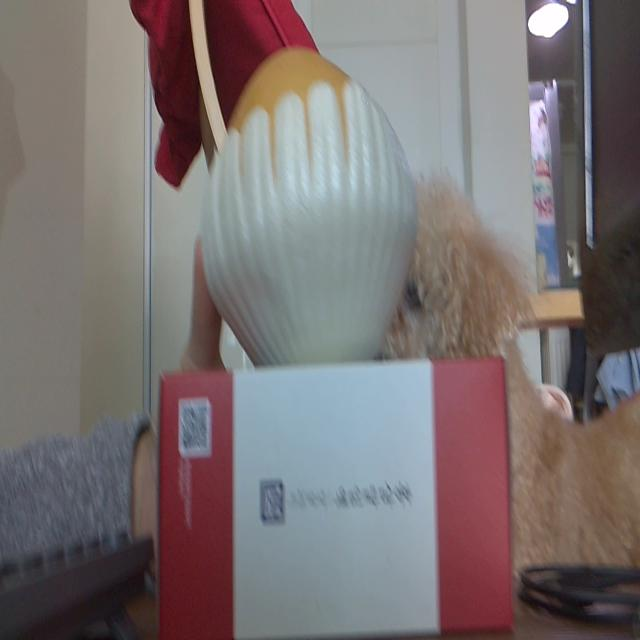pear: (205, 47, 416, 366)
